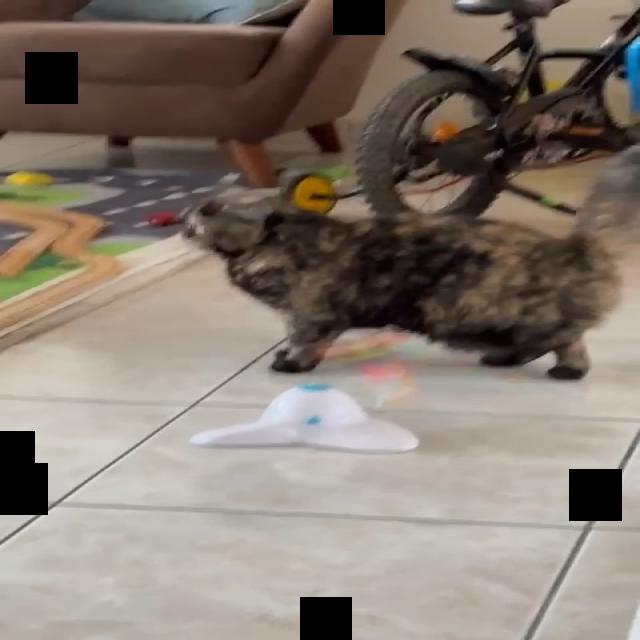authorized: (178, 144, 638, 380)
